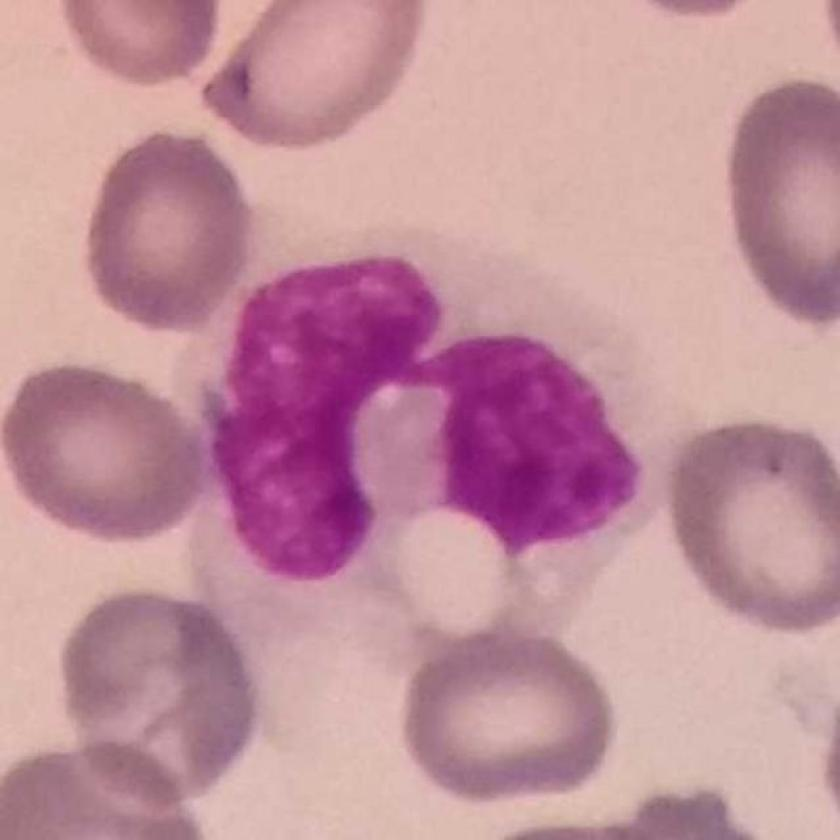monocyte: (156, 188, 678, 692)
